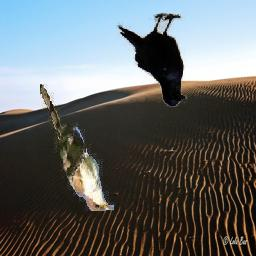Crow: (116, 13, 188, 108)
Cuckoo: (40, 85, 114, 212)
